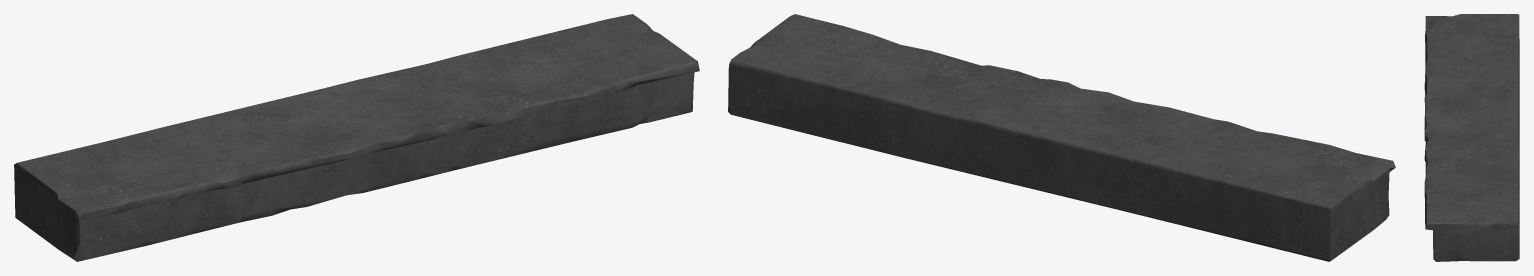
File: SM_Step1.fbx
The picture shows the model from 3 angles, left to right: view 1: azimuth 30°, elevation 25°; view 2: azimuth 150°, elevation 25°; view 3: azimuth 270°, elevation 25°; orthographic projection. The views are drawn at different scales.
Parts seen in each view (by area): view 1: SM_Step1_LOD0; view 2: SM_Step1_LOD0; view 3: SM_Step1_LOD0.
Boxes of the visible parts, x1,y1,x2,y2 form: SM_Step1_LOD0: [14, 14, 699, 261]; SM_Step1_LOD0: [728, 14, 1395, 261]; SM_Step1_LOD0: [1424, 14, 1519, 261].
Bounding box in the file's own units: 310 × 59.4 × 27.27.
Materials: 1 (1 with a texture image).
